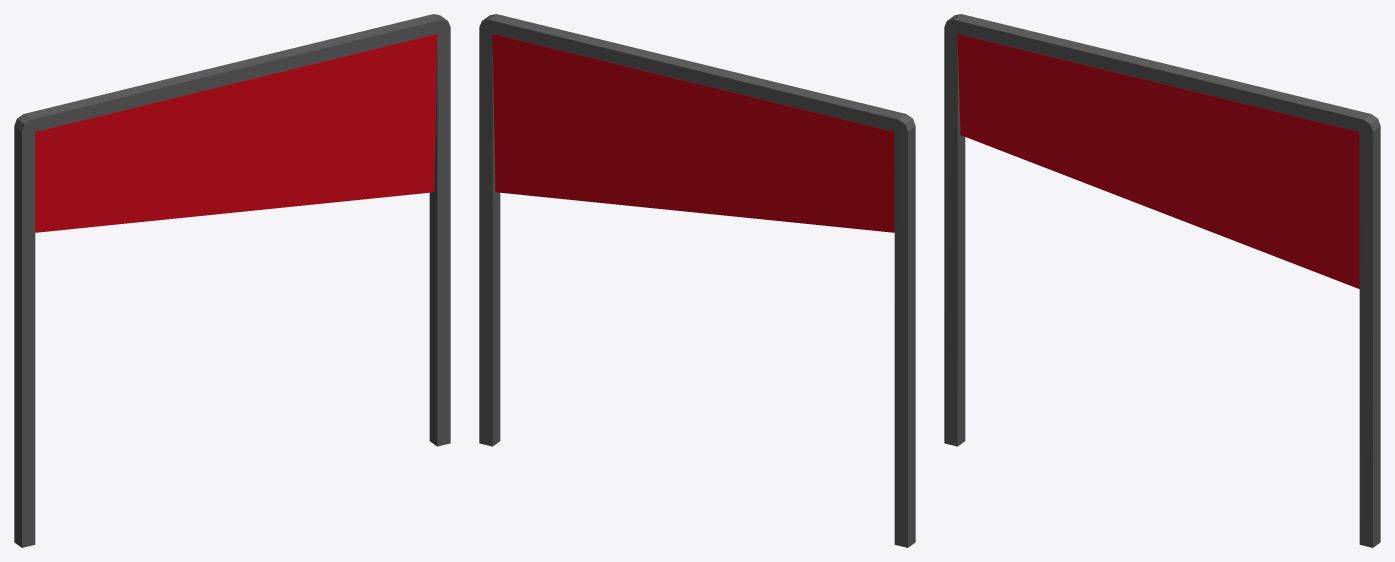
File: giyotin.fbx
3 renders of one model, left to right at view 1: azimuth 30°, elevation 25°; view 2: azimuth 150°, elevation 25°; view 3: azimuth 330°, elevation 25°, orthographic.
Parts seen in each view (by area): view 1: giyotin2, giyotin; view 2: giyotin2, giyotin; view 3: giyotin2, giyotin.
Part boxes in pixels (x1,y1,x2,y2): giyotin2: [35, 34, 437, 232]; giyotin: [14, 14, 450, 547]; giyotin2: [492, 34, 894, 232]; giyotin: [479, 14, 915, 547]; giyotin2: [957, 34, 1359, 288]; giyotin: [944, 14, 1380, 547].
Size of the model in its own units: 423 by 402 by 13.98.
